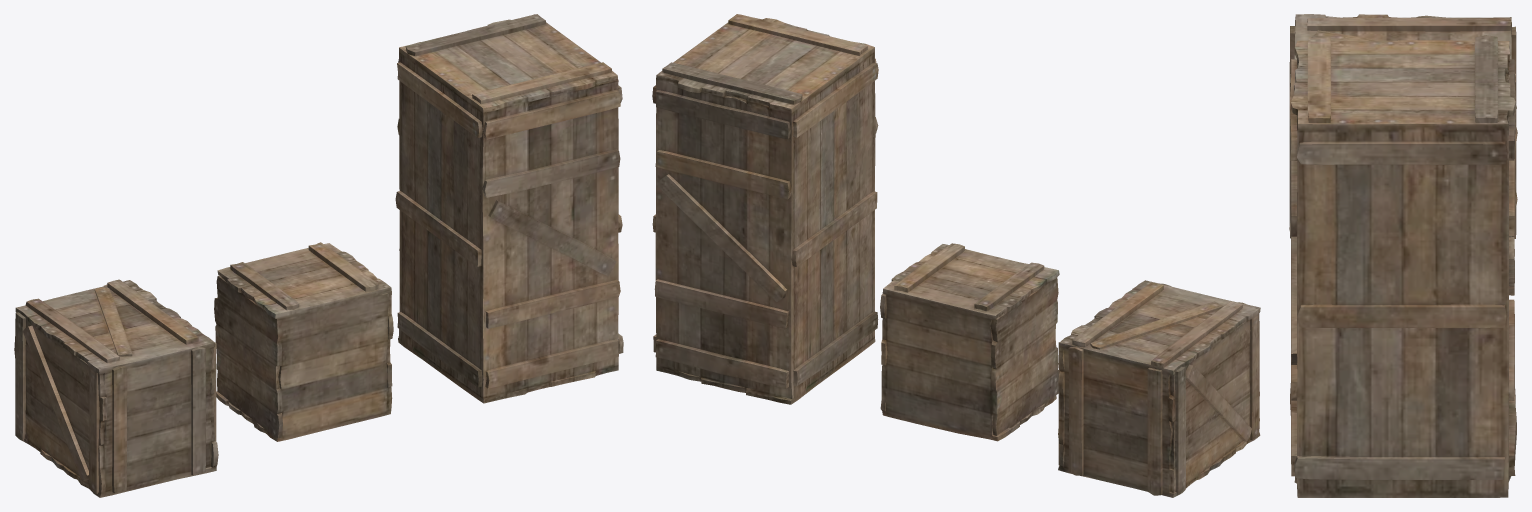
Rendered from p_wooden_boxes.glb.
3 views of the same model, side by side, from view 1: azimuth 30°, elevation 25°; view 2: azimuth 150°, elevation 25°; view 3: azimuth 270°, elevation 25° (orthographic). The views are drawn at different scales.
Parts seen in each view (by area): view 1: box, box2, box1; view 2: box, box2, box1; view 3: box, box2.
Boxes of the visible parts, x1,y1,x2,y2 form: box: (395, 14, 623, 403); box2: (14, 279, 218, 497); box1: (214, 242, 393, 441); box: (652, 14, 878, 404); box2: (1058, 280, 1260, 497); box1: (880, 243, 1059, 441); box: (1290, 35, 1516, 497); box2: (1289, 14, 1517, 238).
Bounding box in the file's own units: 1.14 × 0.6217 × 0.338.
1 material, 1 textured.
